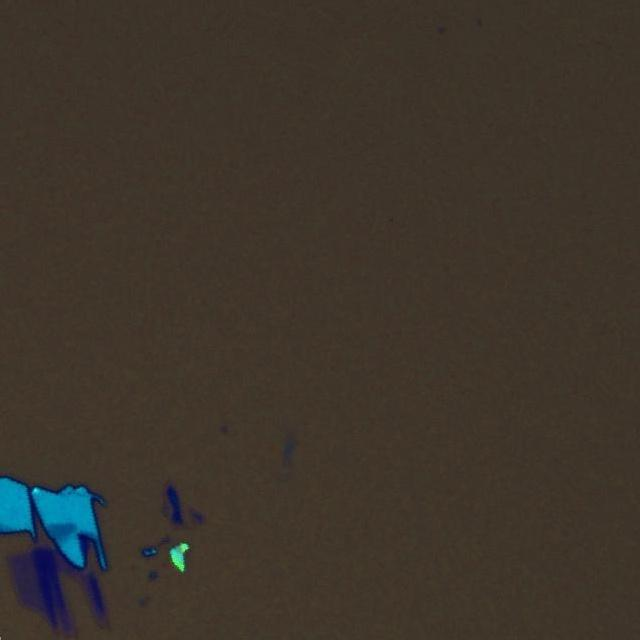monolayer-eWW4: (9, 551, 43, 616)
